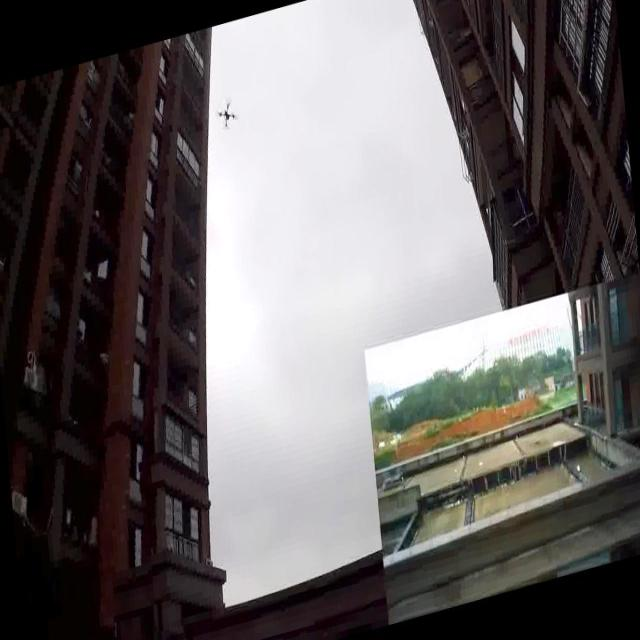drone: (210, 92, 243, 138)
